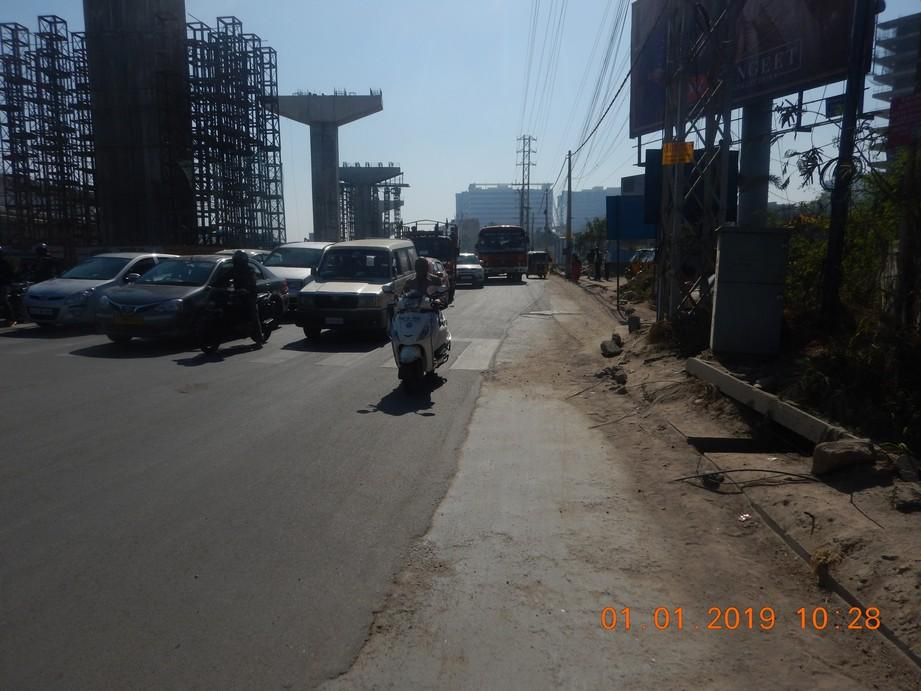with_helmet: (183, 215, 282, 389)
without_helmet: (386, 240, 485, 425)
